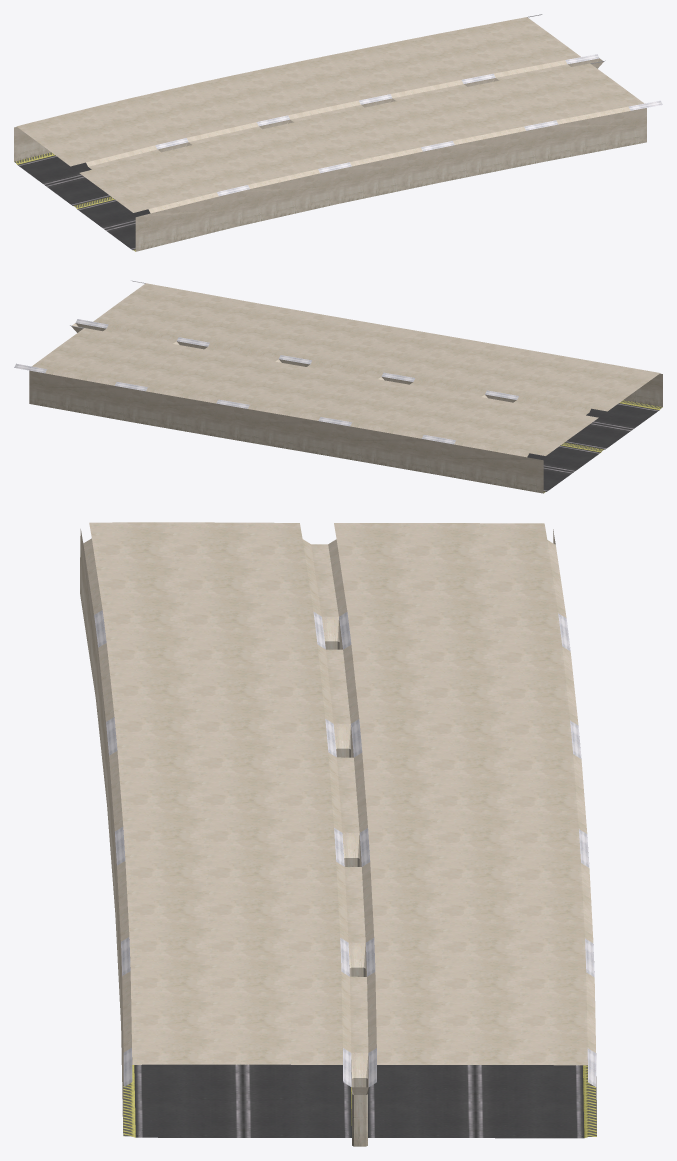
Rendered from golftunnel2_sfs.obj.
The picture shows the model from 3 angles, top to bottom: view 1: azimuth 30°, elevation 25°; view 2: azimuth 150°, elevation 25°; view 3: azimuth 270°, elevation 25°; orthographic projection. The views are drawn at different scales.
Visible parts, largest first — view 1: golftunnel2_SFS; view 2: golftunnel2_SFS; view 3: golftunnel2_SFS.
Part boxes in pixels (box(x1,y1,x2,y2)): golftunnel2_SFS: box(14, 14, 662, 251); golftunnel2_SFS: box(14, 280, 662, 493); golftunnel2_SFS: box(80, 522, 596, 1146).
Bounding box in the file's own units: 66.61 × 7.63 × 28.67.
5 materials, 5 textured.
